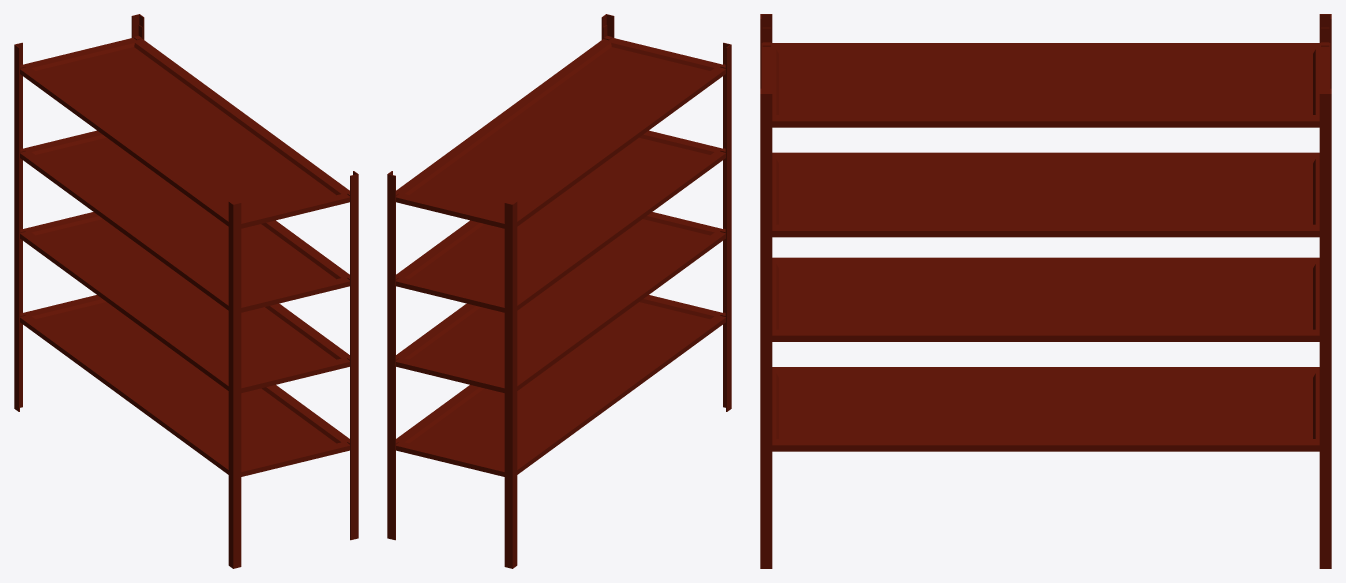
Rendered from storage3.FBX.
3 views of the same model, side by side, from view 1: azimuth 30°, elevation 25°; view 2: azimuth 150°, elevation 25°; view 3: azimuth 270°, elevation 25° (orthographic). The views are drawn at different scales.
Parts seen in each view (by area): view 1: storage3; view 2: storage3; view 3: storage3.
Boxes of the visible parts, box(x1,y1,x2,y2) form: storage3: box(14, 14, 358, 568); storage3: box(387, 14, 731, 568); storage3: box(760, 14, 1331, 568).
Bounding box in the file's own units: 67.16 × 186 × 203.
